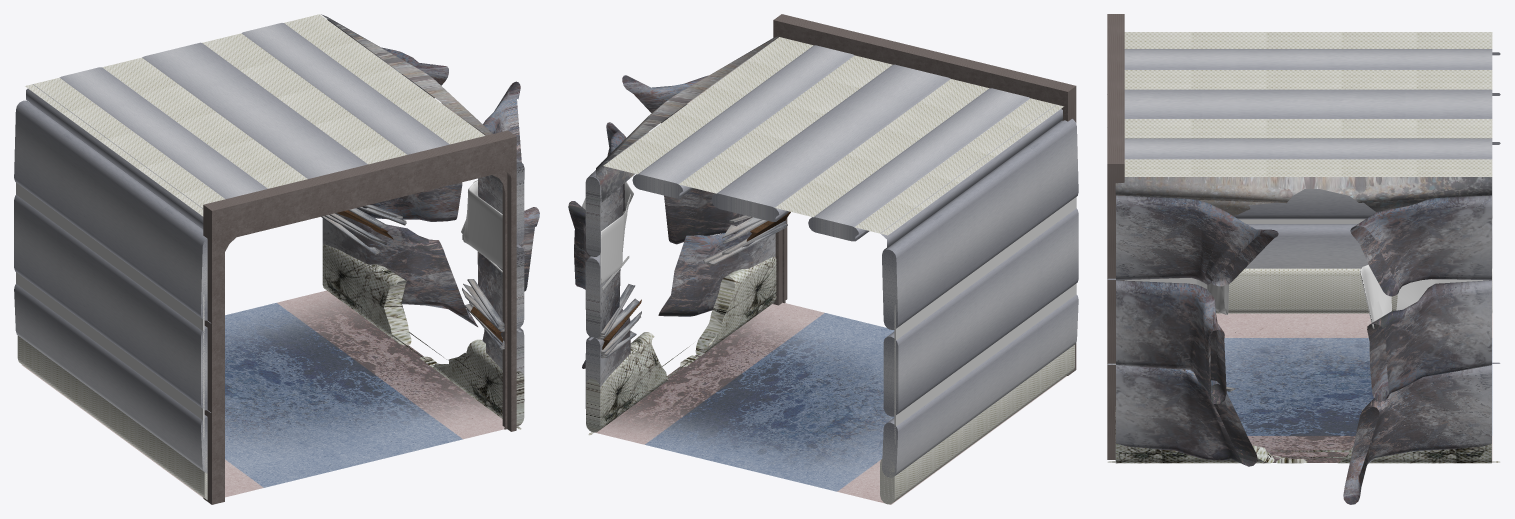
Rendered from CorridorDestroyed.FBX.
3 renders of one model, left to right at view 1: azimuth 30°, elevation 25°; view 2: azimuth 150°, elevation 25°; view 3: azimuth 270°, elevation 25°, orthographic. The views are drawn at different scales.
Visible parts, largest first — view 1: Plane57, Plane58, Box279, ChamferBox118, ChamferBox117, ChamferBox113, ChamferBox119, DamagedHallway_ncl1_1, ChamferBox114, ChamferBox111, ChamferBox112, ChamferBox120 (+8 smaller); view 2: Plane57, Plane58, ChamferBox118, ChamferBox117, ChamferBox113, ChamferBox119, Box279, ChamferBox114, ChamferBox111, ChamferBox112, DamagedHallway_ncl1_1, ChamferBox120 (+8 smaller); view 3: DamagedHallway_ncl1_1, Plane58, Plane57, ChamferBox113, ChamferBox121, ChamferBox123, ChamferBox122, Plane59, ChamferBox112, ChamferBox111, ChamferBox120, Box279 (+6 smaller).
Boxes of the visible parts, x1=… form: Plane57: x1=22, y1=290, x2=504, y2=497; Plane58: x1=25, y1=14, x2=485, y2=216; Box279: x1=203, y1=130, x2=516, y2=504; ChamferBox118: x1=14, y1=100, x2=210, y2=323; ChamferBox117: x1=14, y1=195, x2=210, y2=412; ChamferBox113: x1=142, y1=42, x2=367, y2=178; ChamferBox119: x1=14, y1=284, x2=207, y2=473; DamagedHallway_ncl1_1: x1=322, y1=47, x2=477, y2=326; ChamferBox114: x1=322, y1=243, x2=524, y2=429; ChamferBox111: x1=59, y1=67, x2=267, y2=198; ChamferBox112: x1=241, y1=23, x2=449, y2=154; ChamferBox120: x1=17, y1=335, x2=207, y2=499; Plane57: x1=595, y1=302, x2=1066, y2=504; Plane58: x1=603, y1=37, x2=1063, y2=235; ChamferBox118: x1=882, y1=119, x2=1078, y2=329; ChamferBox117: x1=883, y1=208, x2=1078, y2=416; ChamferBox113: x1=711, y1=64, x2=950, y2=221; ChamferBox119: x1=882, y1=294, x2=1078, y2=477; Box279: x1=773, y1=14, x2=1076, y2=375; ChamferBox114: x1=586, y1=256, x2=776, y2=435; ChamferBox111: x1=808, y1=88, x2=1030, y2=241; ChamferBox112: x1=632, y1=45, x2=854, y2=198; DamagedHallway_ncl1_1: x1=568, y1=122, x2=633, y2=408; ChamferBox120: x1=880, y1=344, x2=1074, y2=504; DamagedHallway_ncl1_1: x1=1343, y1=195, x2=1500, y2=504; Plane58: x1=1124, y1=32, x2=1492, y2=176; Plane57: x1=1185, y1=313, x2=1492, y2=462; ChamferBox113: x1=1124, y1=89, x2=1500, y2=118; ChamferBox121: x1=1107, y1=195, x2=1278, y2=286; ChamferBox123: x1=1116, y1=365, x2=1257, y2=466; ChamferBox122: x1=1107, y1=280, x2=1226, y2=404; Plane59: x1=1115, y1=177, x2=1491, y2=216; ChamferBox112: x1=1124, y1=138, x2=1500, y2=159; ChamferBox111: x1=1124, y1=49, x2=1500, y2=69; ChamferBox120: x1=1215, y1=268, x2=1492, y2=313; Box279: x1=1107, y1=14, x2=1124, y2=459.
Size of the model in its own units: 12.9 by 9.26 by 10.99.
